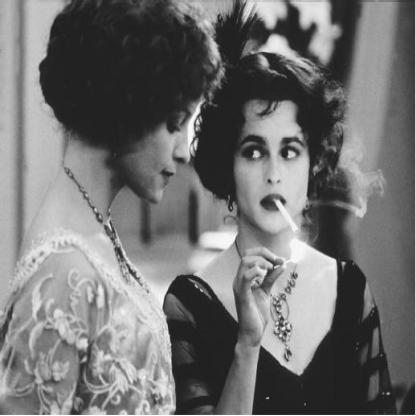smoke: (337, 142, 387, 218)
